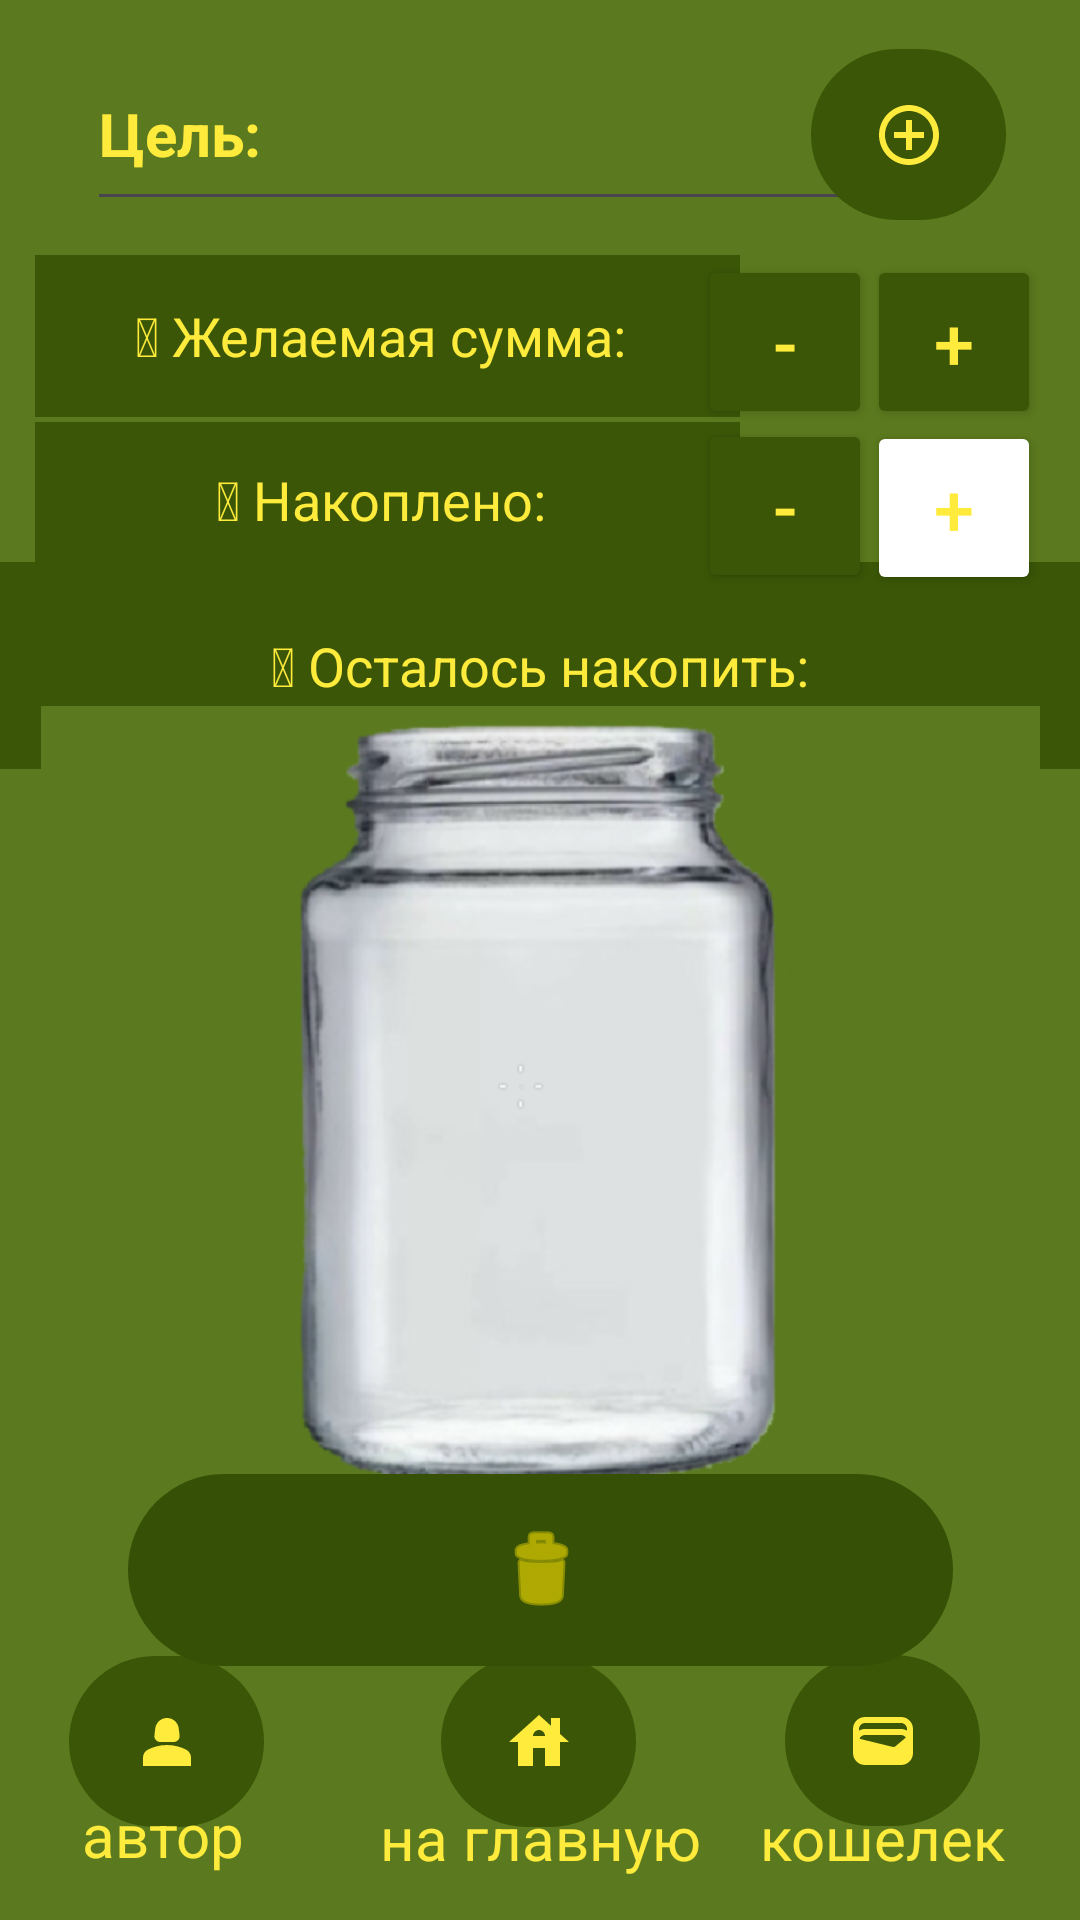

Screen size 1080px×1920px. Icon name, then its center in pixels as point (x, y):
add circle: point (908, 134)
house: point (538, 1741)
person: point (166, 1741)
